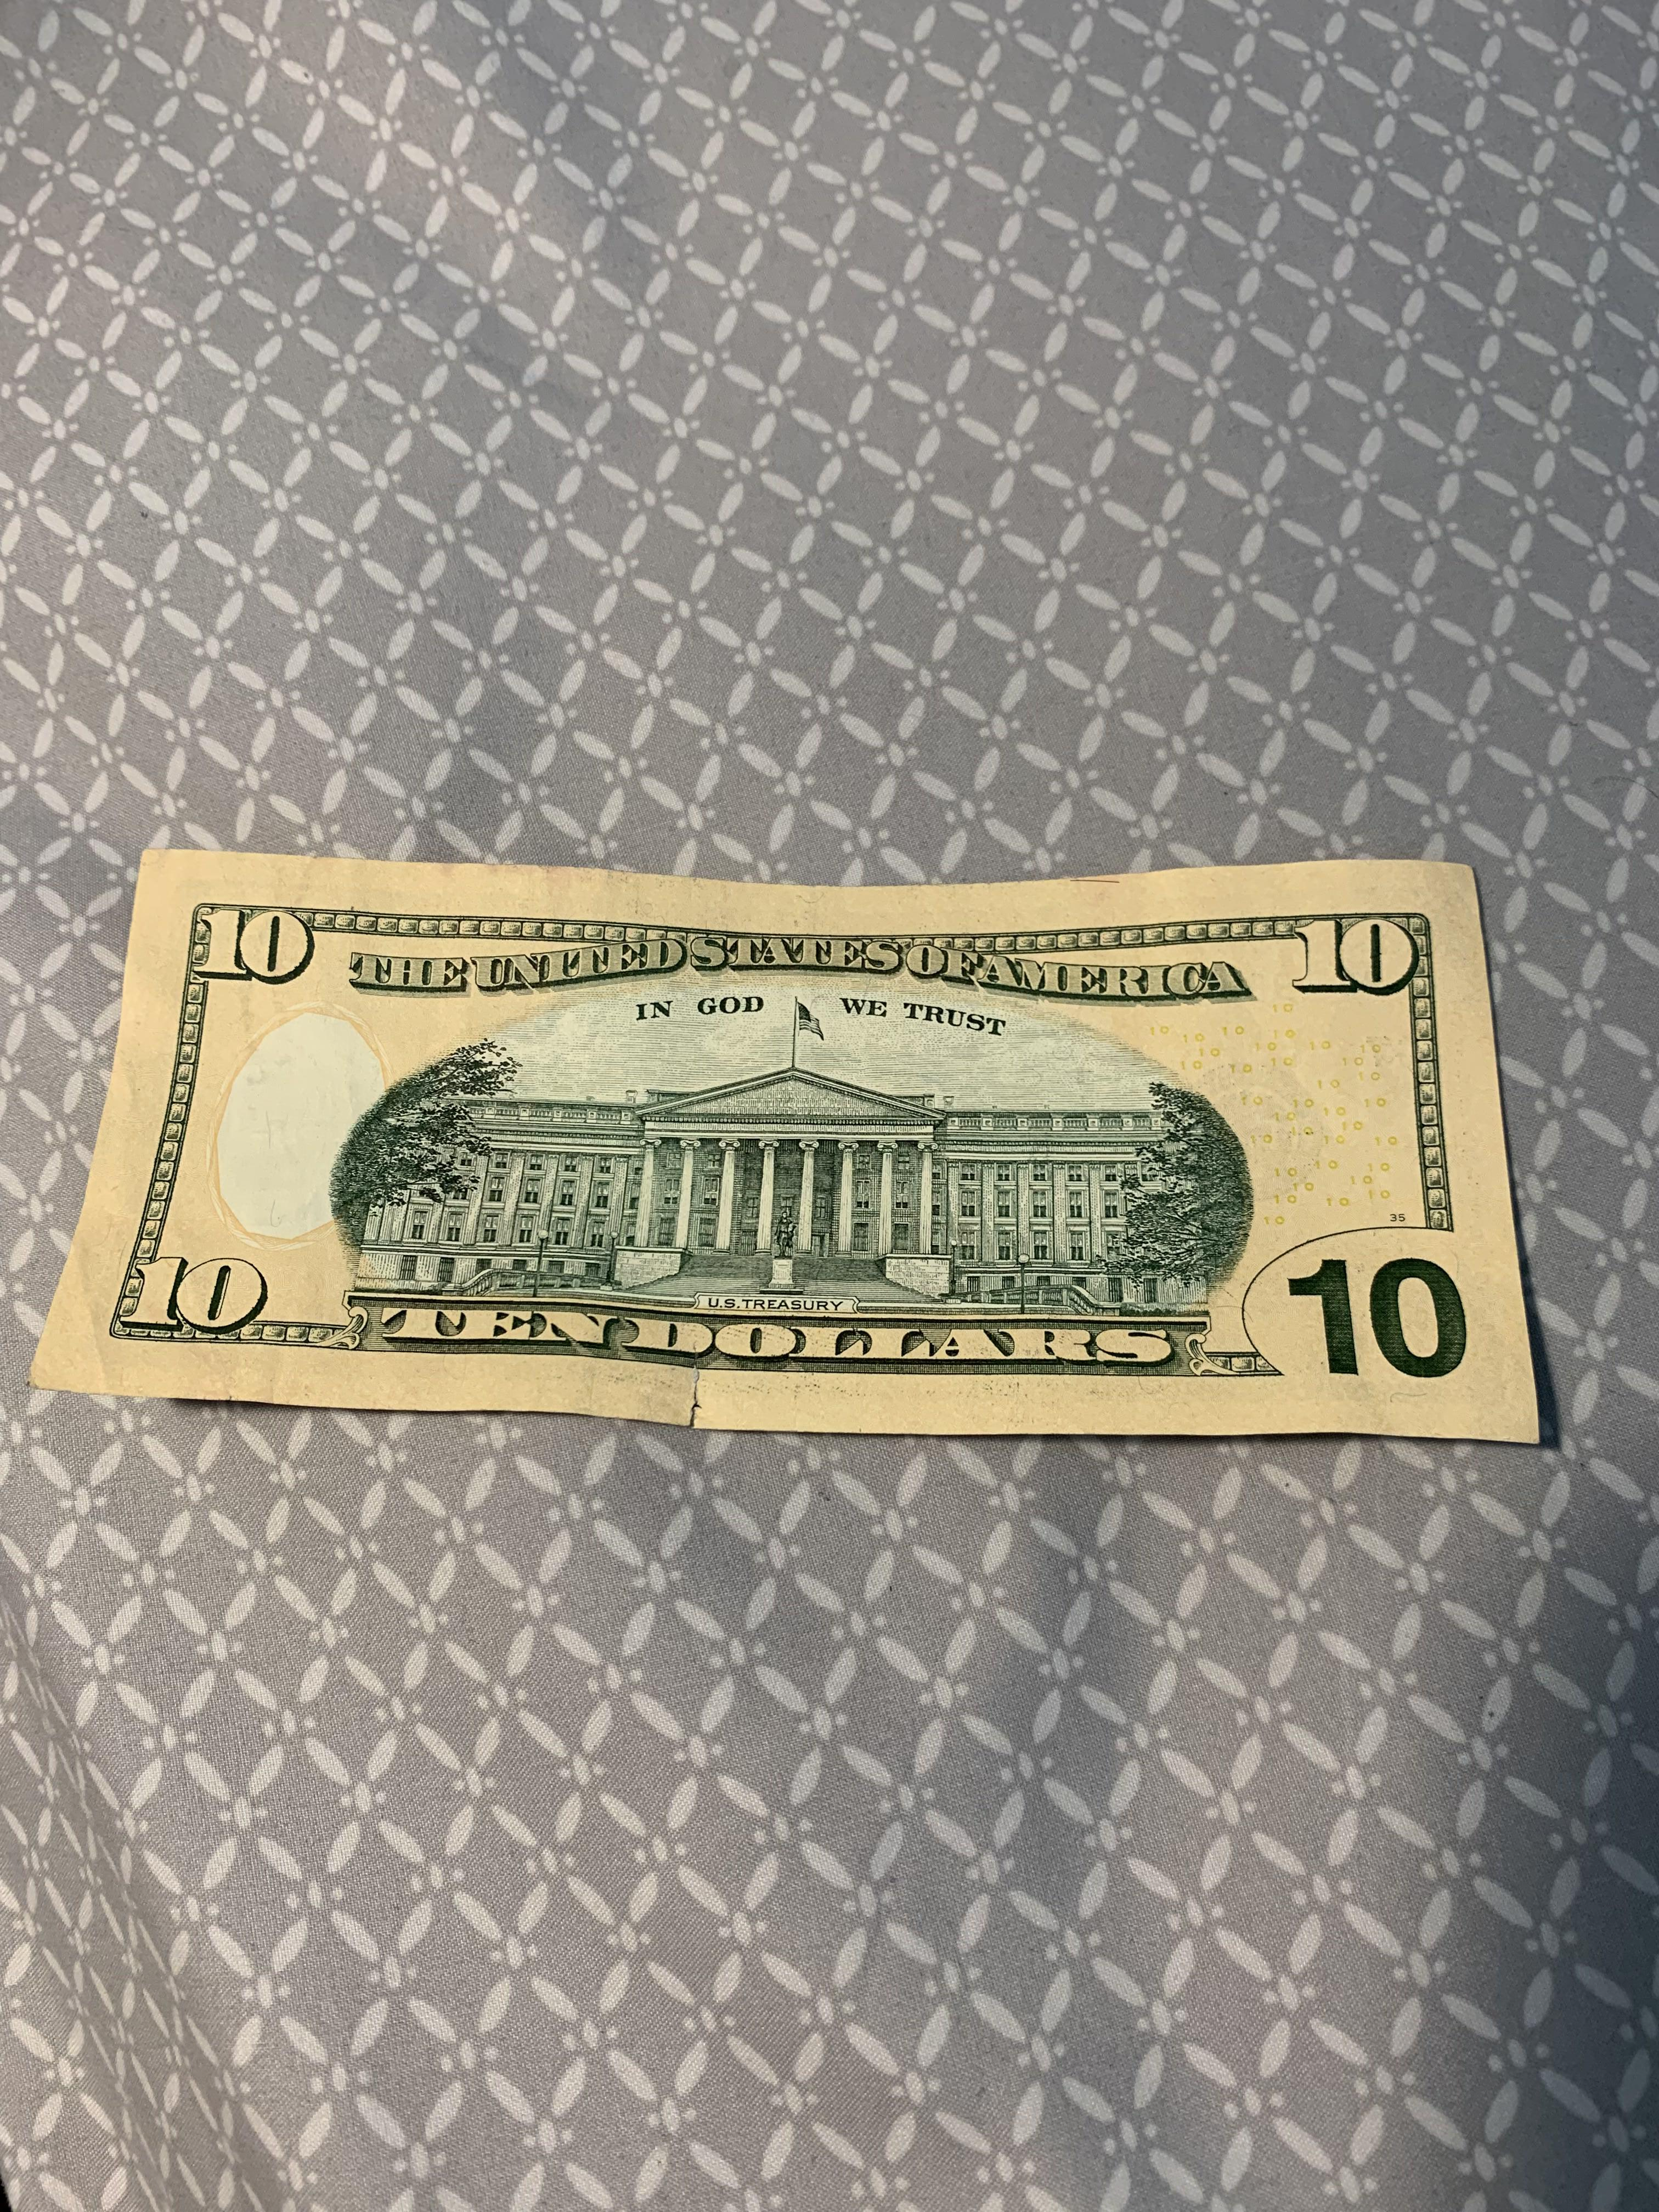TenBill: (19, 838, 1561, 1467)
